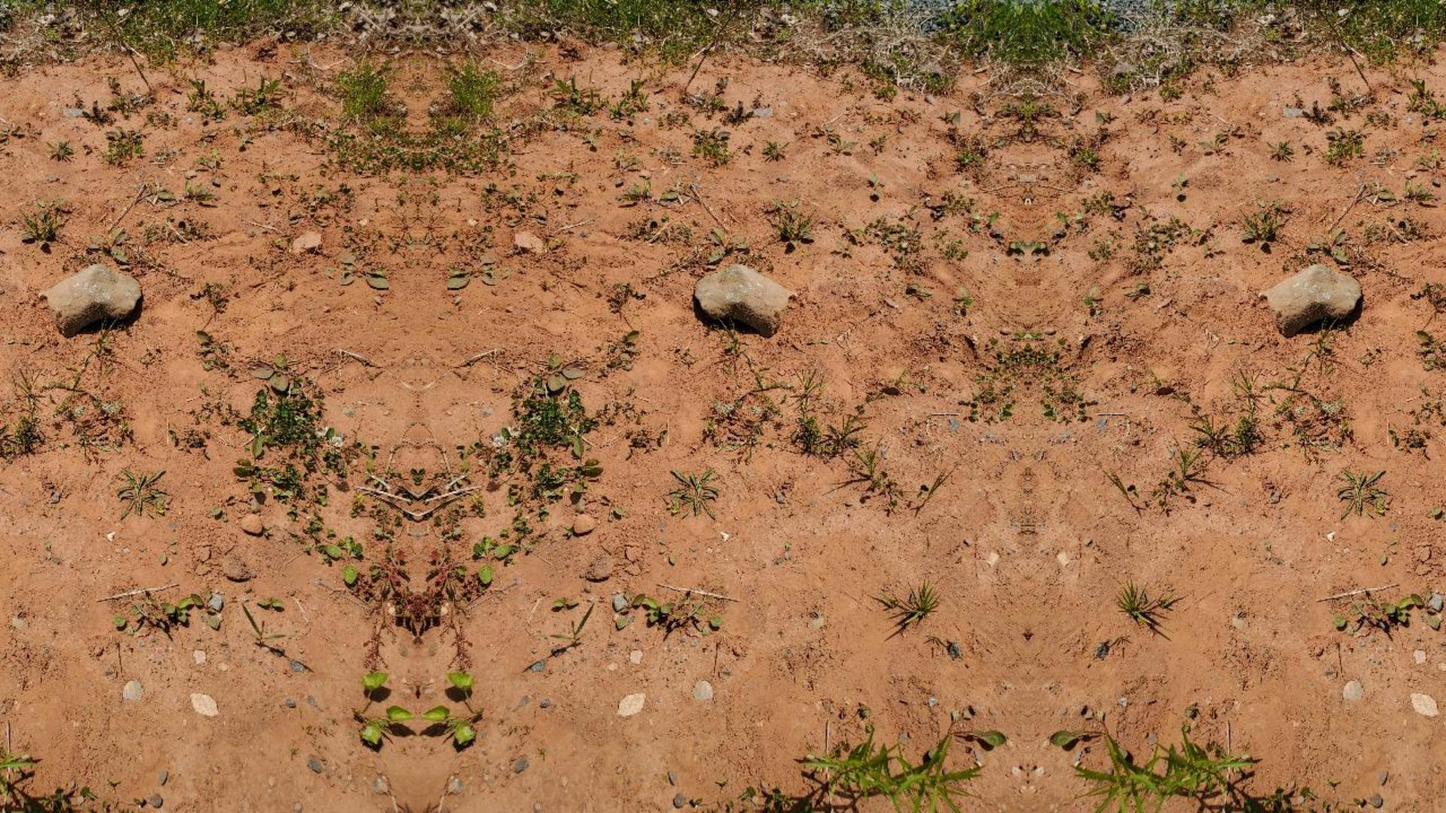rock: (46, 264, 141, 336), (694, 264, 790, 335), (1266, 264, 1361, 335)
